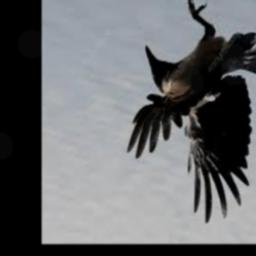Crow: (127, 0, 256, 224)
